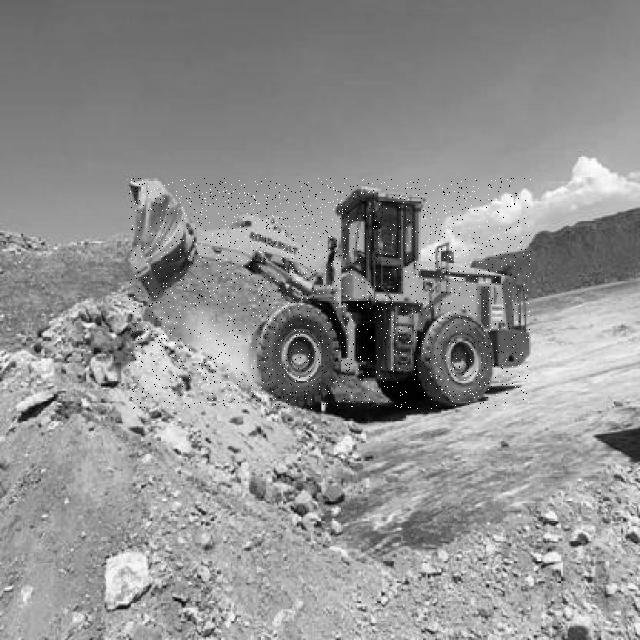Construction Equipment: (129, 178, 531, 409)
